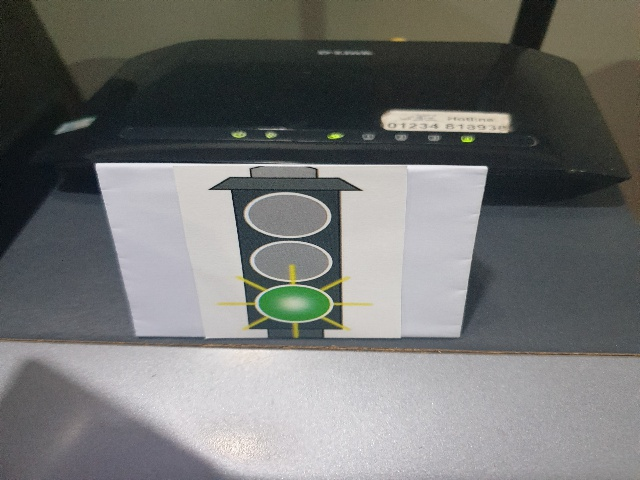Green Light: (204, 165, 378, 342)
